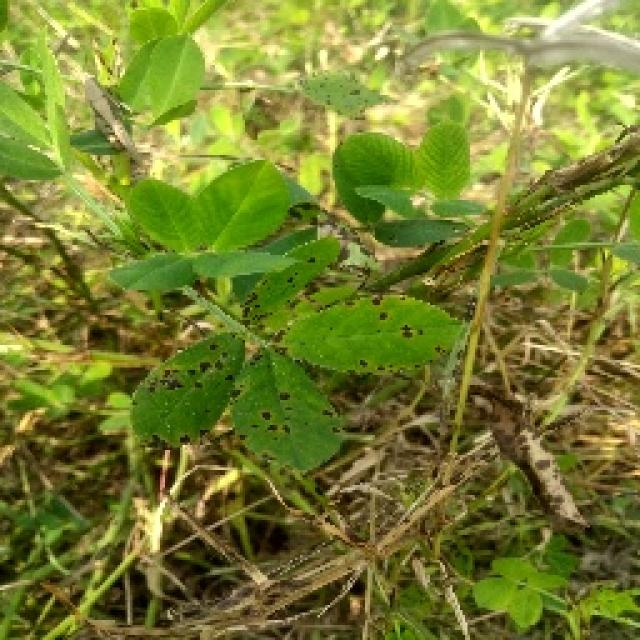Yellowish: (128, 253, 447, 444)
